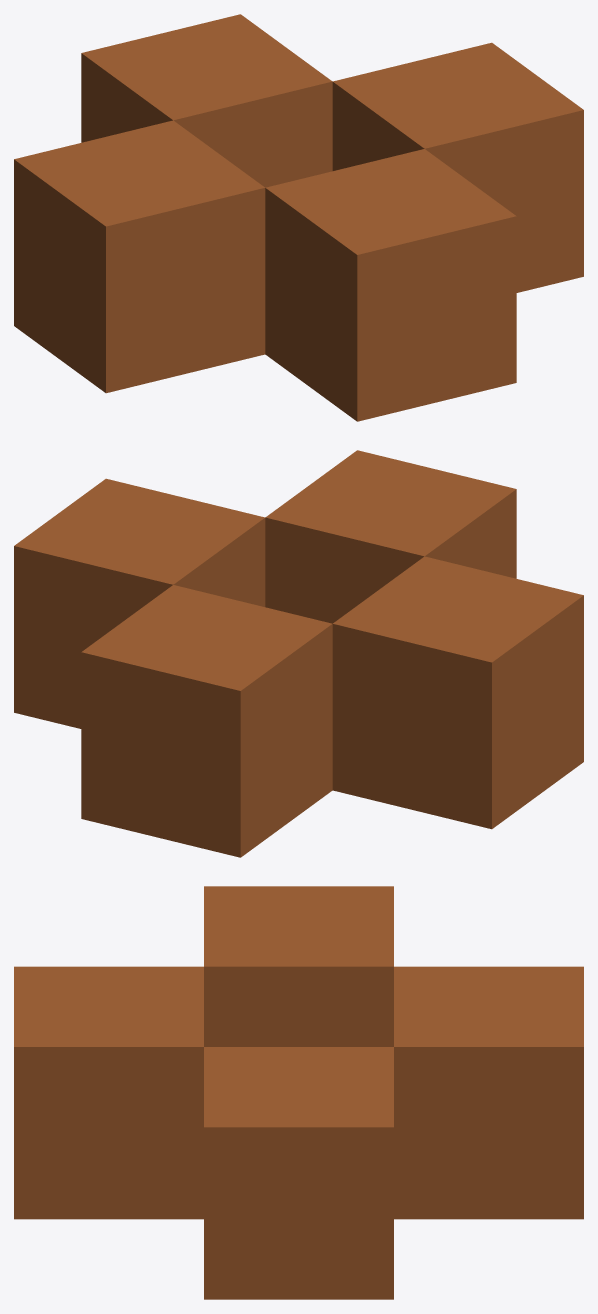
The model's file is foguete-laranja.obj.
The picture shows the model from 3 angles, top to bottom: view 1: azimuth 30°, elevation 25°; view 2: azimuth 150°, elevation 25°; view 3: azimuth 270°, elevation 25°; orthographic projection. The views are drawn at different scales.
Size of the model in its own units: 0.3 by 0.1 by 0.3.
1 material, 1 textured.
